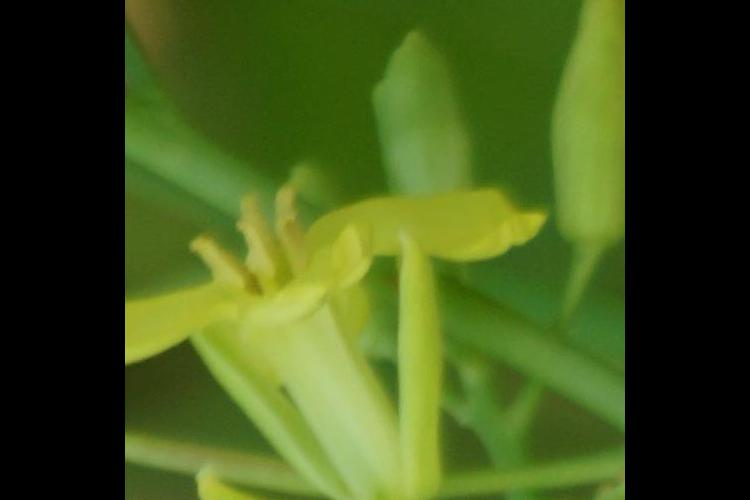bud: (538, 1, 626, 262)
yellow: (131, 183, 528, 500)
